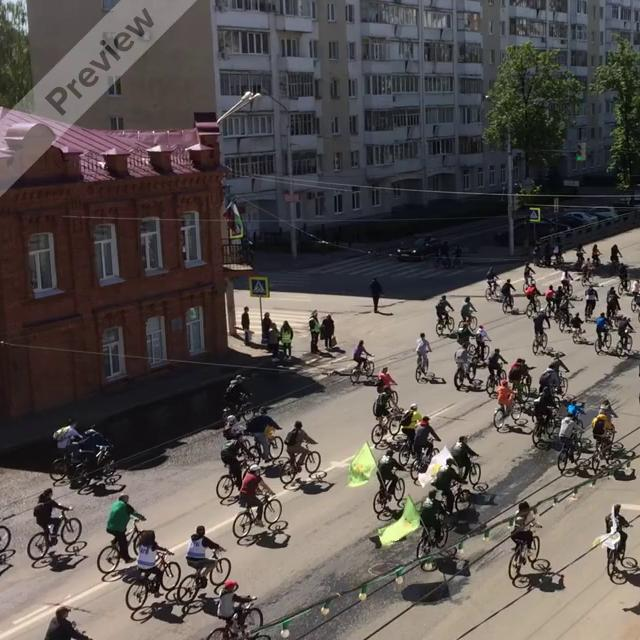bicycle: (124, 550, 181, 610), (49, 443, 120, 489), (177, 547, 231, 605), (27, 506, 82, 560), (97, 516, 147, 574), (508, 525, 551, 586), (205, 595, 264, 639), (416, 511, 456, 572), (232, 491, 282, 538), (215, 459, 267, 499), (603, 529, 639, 584), (278, 443, 321, 484), (556, 426, 590, 476), (74, 459, 122, 494), (373, 474, 406, 521), (492, 389, 525, 430), (371, 406, 405, 445), (589, 430, 619, 474), (456, 455, 488, 494), (531, 404, 560, 447), (410, 442, 440, 482), (222, 392, 253, 424), (246, 435, 283, 461), (446, 479, 472, 513), (453, 357, 476, 390), (486, 362, 507, 397), (350, 356, 375, 385), (470, 339, 490, 368), (615, 329, 634, 357), (378, 383, 398, 409), (532, 328, 549, 355), (594, 328, 611, 355), (435, 312, 454, 336), (484, 277, 501, 301), (414, 353, 428, 382), (553, 370, 568, 397), (525, 294, 541, 317), (557, 309, 572, 332), (571, 324, 587, 344), (502, 291, 515, 313)
